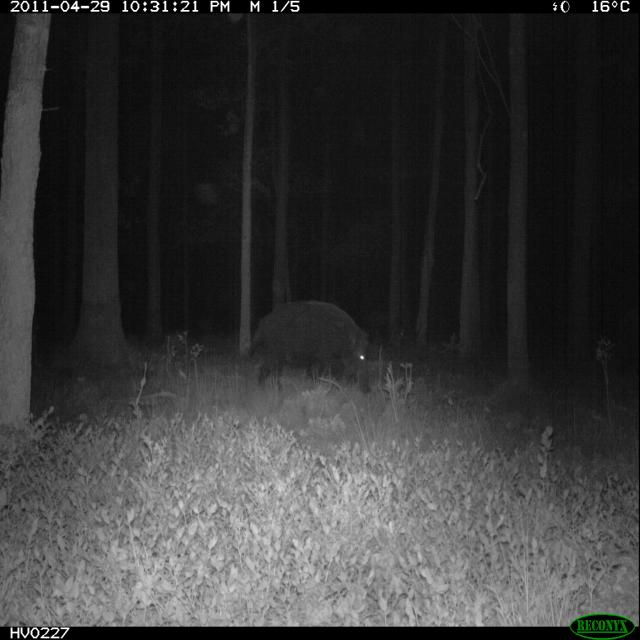boar: (232, 277, 386, 406)
